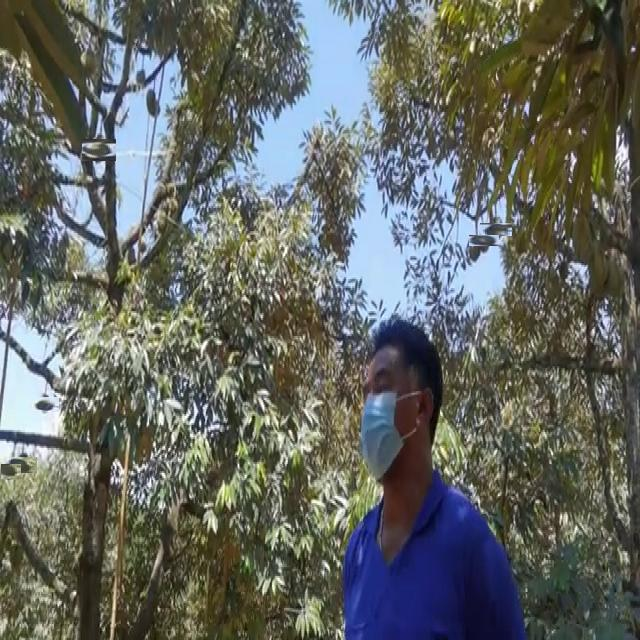durian: (85, 136, 113, 165), (145, 85, 161, 123), (484, 217, 507, 241), (10, 454, 34, 477), (33, 393, 56, 415), (474, 230, 495, 251), (0, 462, 20, 481)
